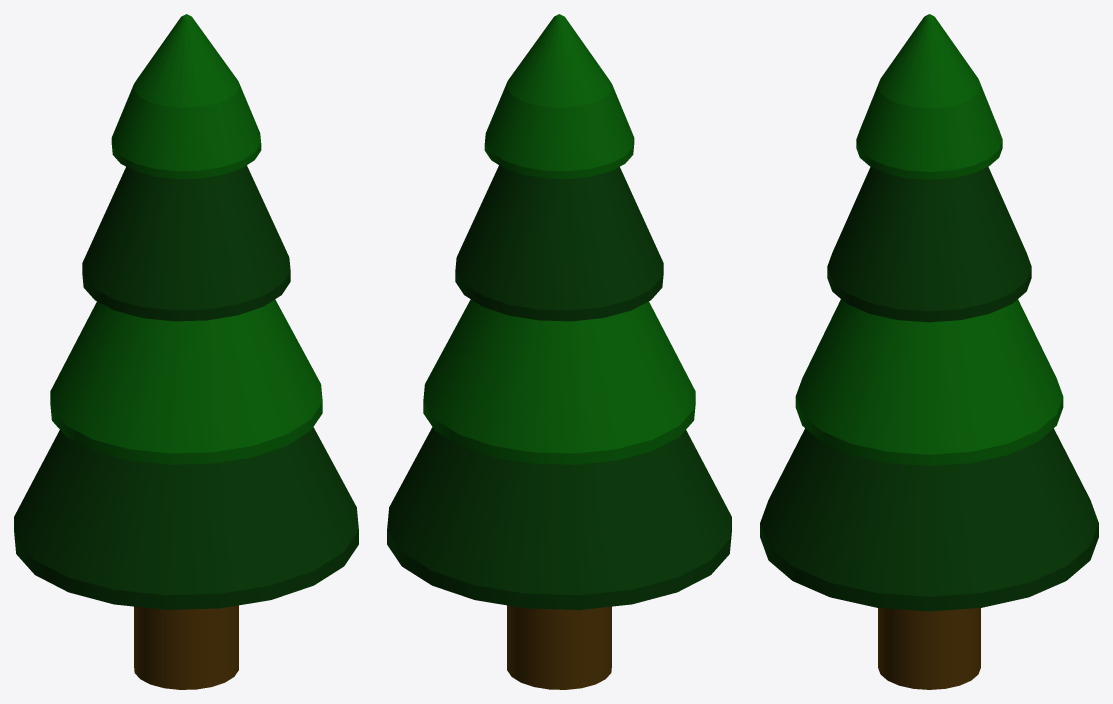
File: Arbol_0.fbx
The picture shows the model from 3 angles, left to right: view 1: azimuth 30°, elevation 25°; view 2: azimuth 150°, elevation 25°; view 3: azimuth 270°, elevation 25°; orthographic projection.
Visible parts, largest first — view 1: pCylinder2; view 2: pCylinder2; view 3: pCylinder2.
Boxes of the visible parts, x1,y1,x2,y2 form: pCylinder2: (14, 14, 358, 689); pCylinder2: (387, 14, 731, 689); pCylinder2: (760, 14, 1098, 689).
Size of the model in its own units: 79.36 by 164 by 76.86.
